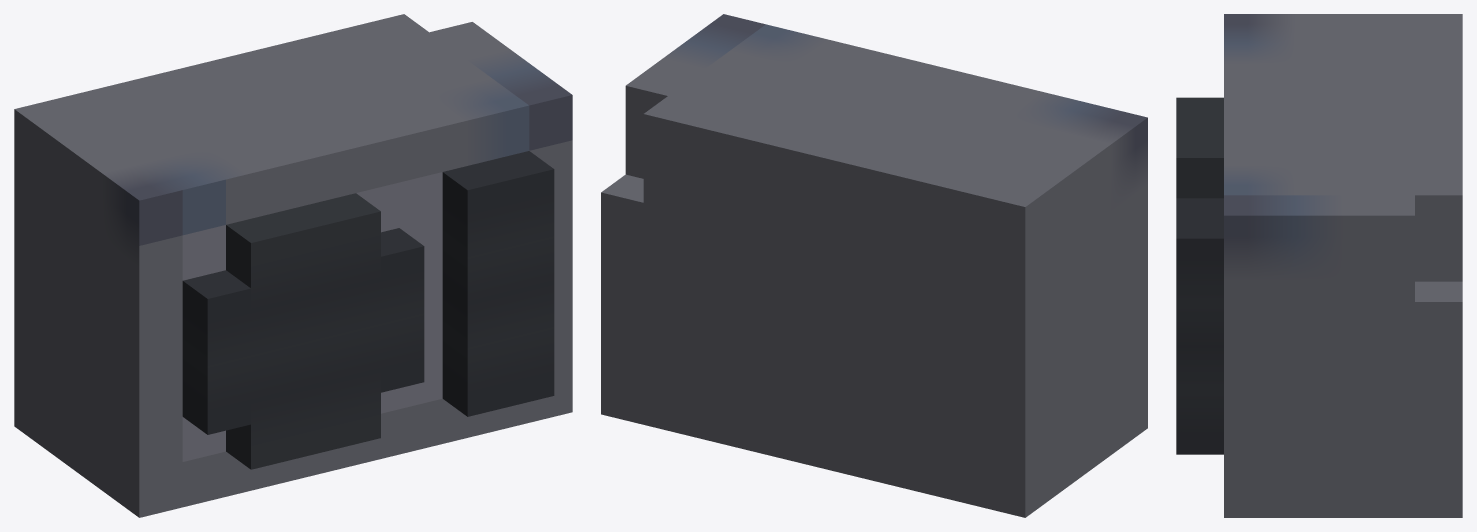
The picture shows the model from 3 angles, left to right: view 1: azimuth 30°, elevation 25°; view 2: azimuth 150°, elevation 25°; view 3: azimuth 270°, elevation 25°; orthographic projection. The views are drawn at different scales.
Parts seen in each view (by area): view 1: AC; view 2: AC; view 3: AC.
Boxes of the visible parts, x1,y1,x2,y2 form: AC: [14, 14, 572, 517]; AC: [601, 14, 1147, 517]; AC: [1176, 14, 1462, 517].
Bounding box in the file's own units: 100 × 70 × 60.
Materials: 1 (1 with a texture image).
